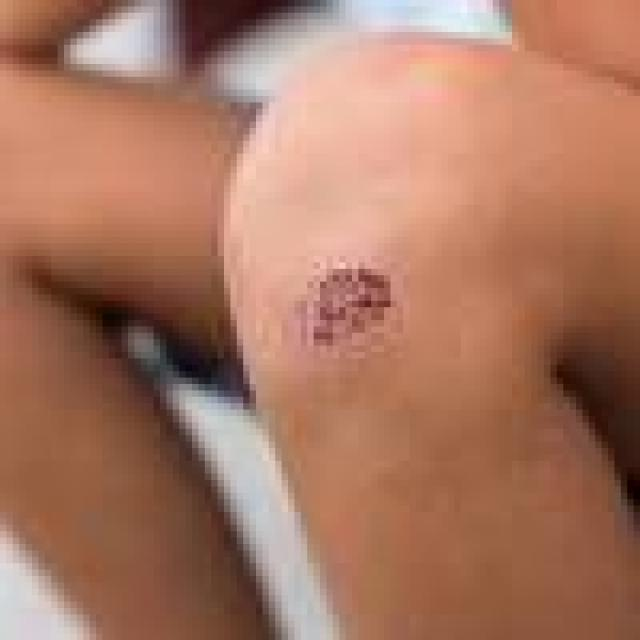Cut: (291, 246, 419, 368)
